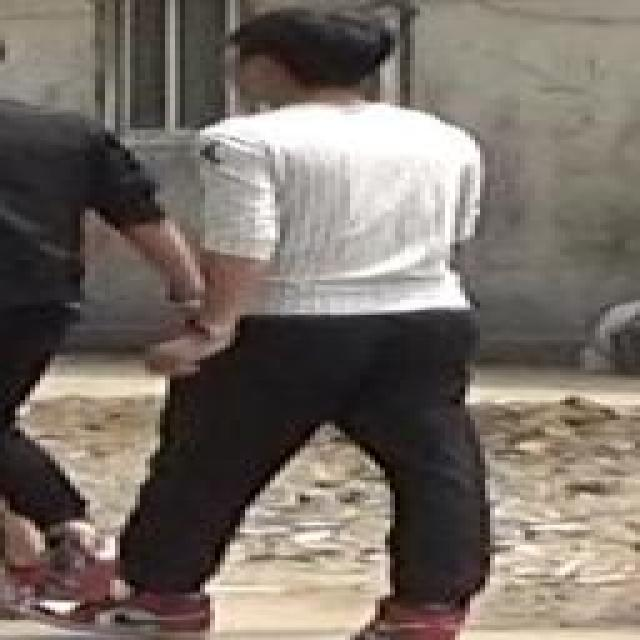adult: (146, 7, 507, 640)
